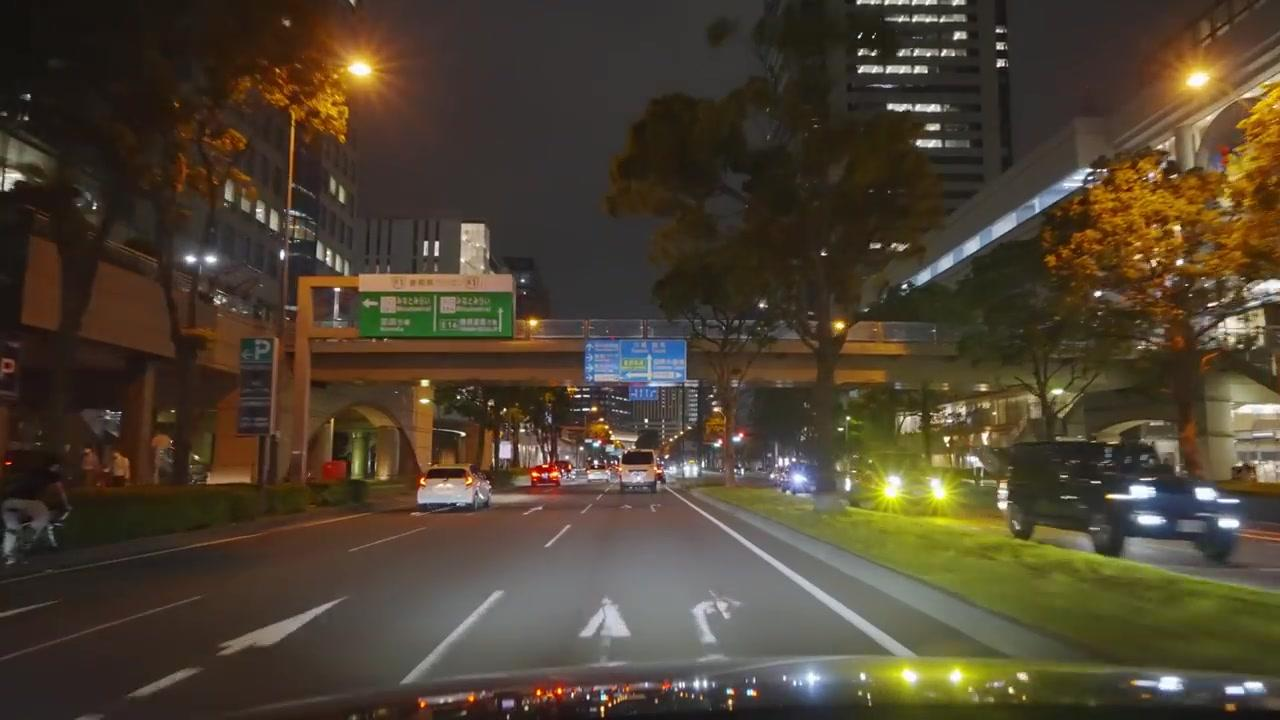bus: (617, 450, 663, 494)
car: (854, 453, 946, 516), (416, 465, 493, 513), (618, 451, 663, 494), (780, 461, 821, 495), (529, 462, 562, 486)
person: (0, 466, 72, 562)
traffic light: (736, 430, 747, 442)
truck: (1002, 437, 1244, 563)
